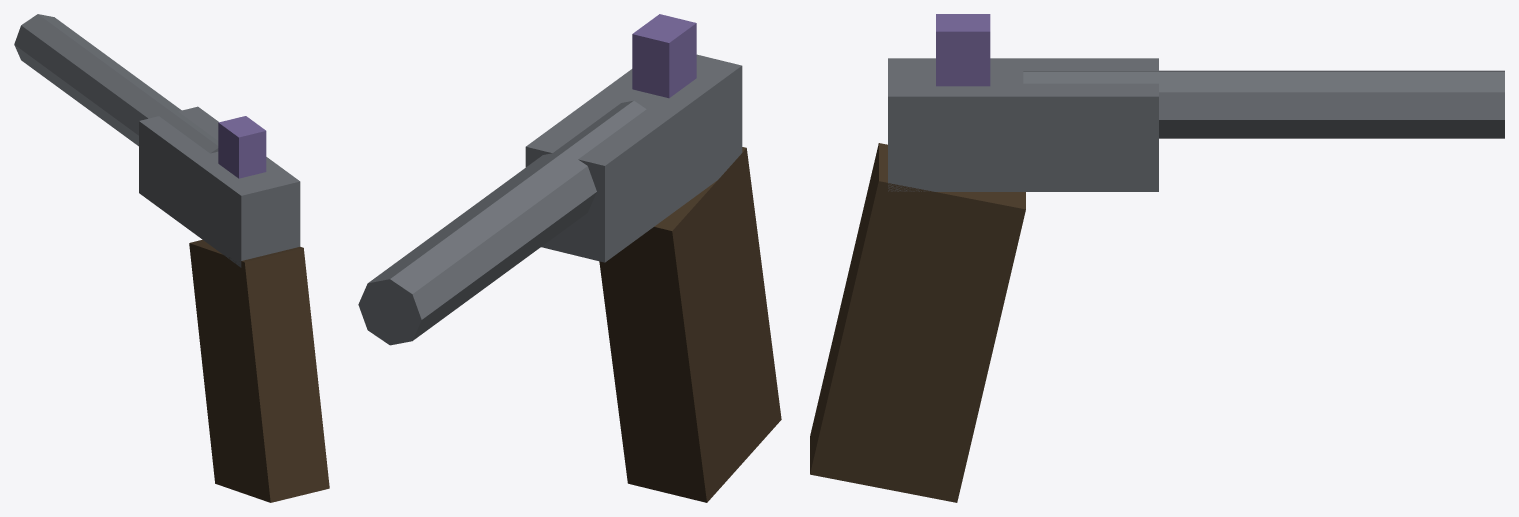
File: FlintlockPistol.fbx
3 renders of one model, left to right at view 1: azimuth 30°, elevation 25°; view 2: azimuth 150°, elevation 25°; view 3: azimuth 270°, elevation 25°, orthographic. The views are drawn at different scales.
Parts seen in each view (by area): view 1: FlintlockPistol; view 2: FlintlockPistol; view 3: FlintlockPistol.
Part boxes in pixels (x1,y1,x2,y2): FlintlockPistol: (14,14,329,502); FlintlockPistol: (358,14,781,502); FlintlockPistol: (810,14,1504,502).
Size of the model in its own units: 3 by 16.9 by 23.09.
Materials: 3 (3 with a texture image).
